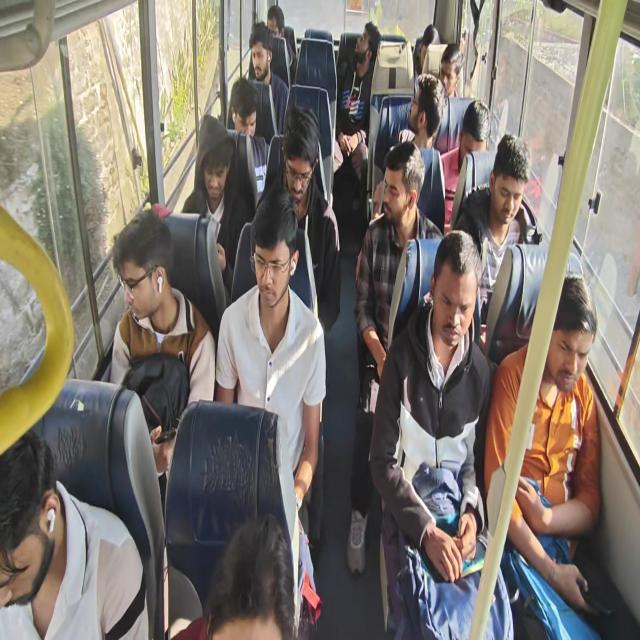person: (100, 7, 603, 638), (368, 229, 515, 638), (484, 271, 607, 638), (346, 141, 445, 575), (214, 185, 327, 534), (0, 429, 149, 639), (109, 208, 216, 486), (255, 104, 341, 332), (453, 133, 531, 338), (170, 513, 296, 639), (181, 113, 251, 296), (371, 74, 443, 220), (334, 21, 380, 181), (440, 99, 491, 229), (227, 76, 270, 193), (246, 24, 289, 137), (394, 73, 443, 149), (266, 5, 297, 84), (412, 24, 440, 96), (438, 42, 464, 98)
